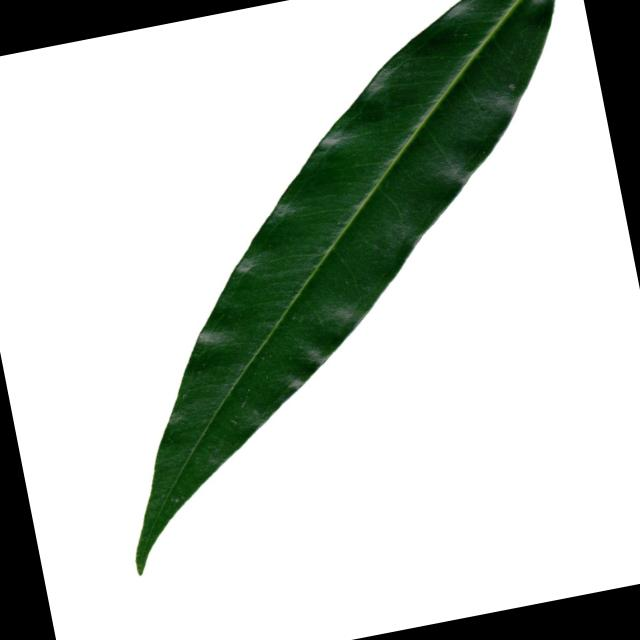Medicinal-Rose Apple: (34, 0, 640, 587)
